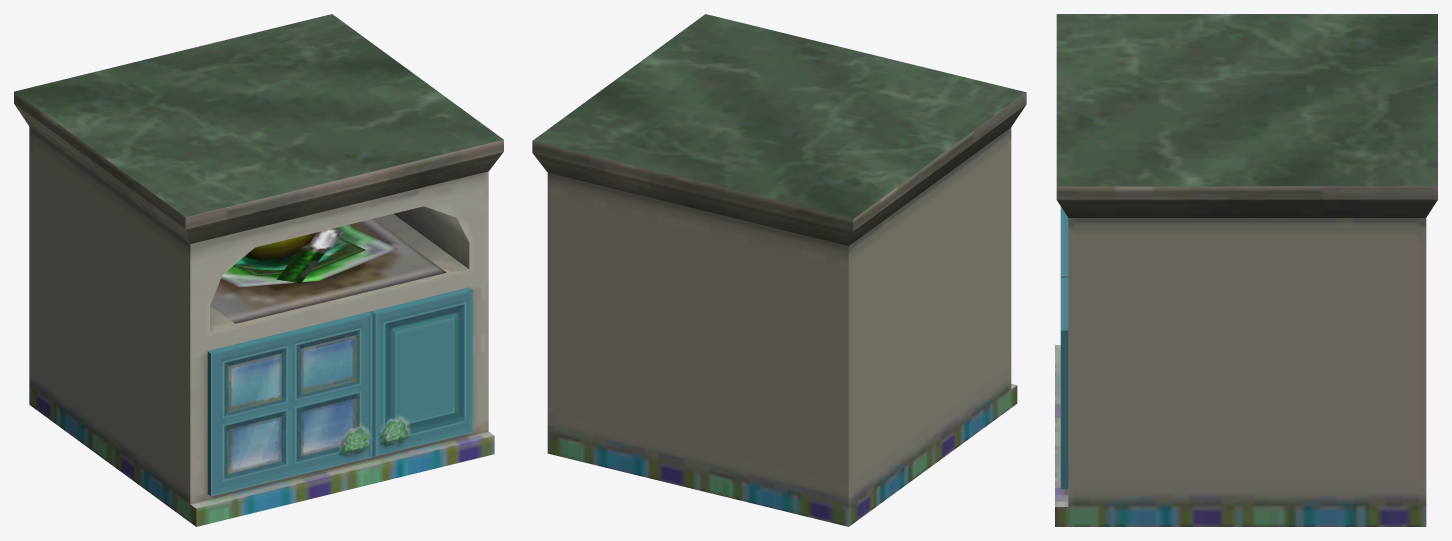
The model's file is furni_0200621_03.FBX.
3 views of the same model, side by side, from view 1: azimuth 30°, elevation 25°; view 2: azimuth 150°, elevation 25°; view 3: azimuth 270°, elevation 25° (orthographic). The views are drawn at different scales.
Parts seen in each view (by area): view 1: furni_0200621_03; view 2: furni_0200621_03; view 3: furni_0200621_03.
Boxes of the visible parts, <box> form: furni_0200621_03: <box>14,14,503,526</box>; furni_0200621_03: <box>532,14,1026,526</box>; furni_0200621_03: <box>1055,14,1437,526</box>.
Bounding box in the file's own units: 85.28 × 79.79 × 80.04.
1 material, 1 textured.
